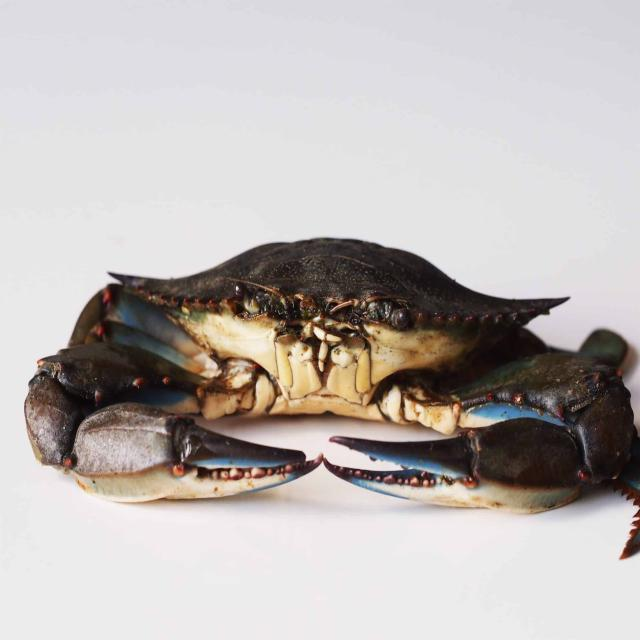crab: (108, 235, 519, 494)
